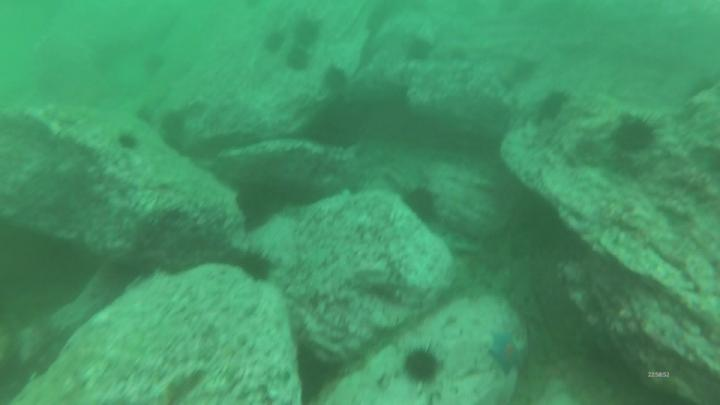echinus: (409, 348, 438, 383), (618, 121, 651, 150), (161, 114, 189, 145), (293, 18, 318, 45), (409, 190, 432, 219), (241, 254, 267, 278), (407, 38, 434, 60), (325, 67, 348, 88), (546, 93, 566, 116), (289, 49, 305, 70)
starfish: (489, 334, 523, 373), (539, 361, 567, 382)
